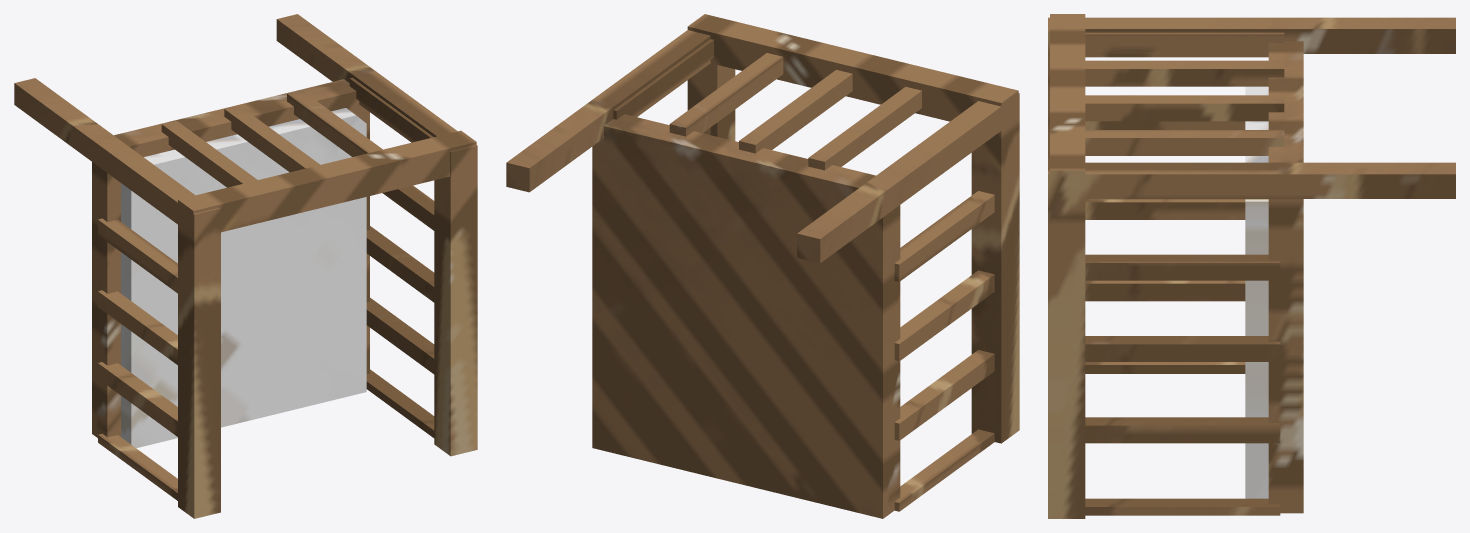
The model's file is pz_bed_bedding_01_oak_0_1.obj.
3 renders of one model, left to right at view 1: azimuth 30°, elevation 25°; view 2: azimuth 150°, elevation 25°; view 3: azimuth 270°, elevation 25°, orthographic. The views are drawn at different scales.
Visible parts, largest first — view 1: root; view 2: root; view 3: root.
Boxes of the visible parts, x1,y1,x2,y2 form: root: (14,14,477,518); root: (506,14,1019,518); root: (1048,14,1455,518).
Bounding box in the file's own units: 0.95 × 0.985 × 1.04.
Materials: 1 (1 with a texture image).
